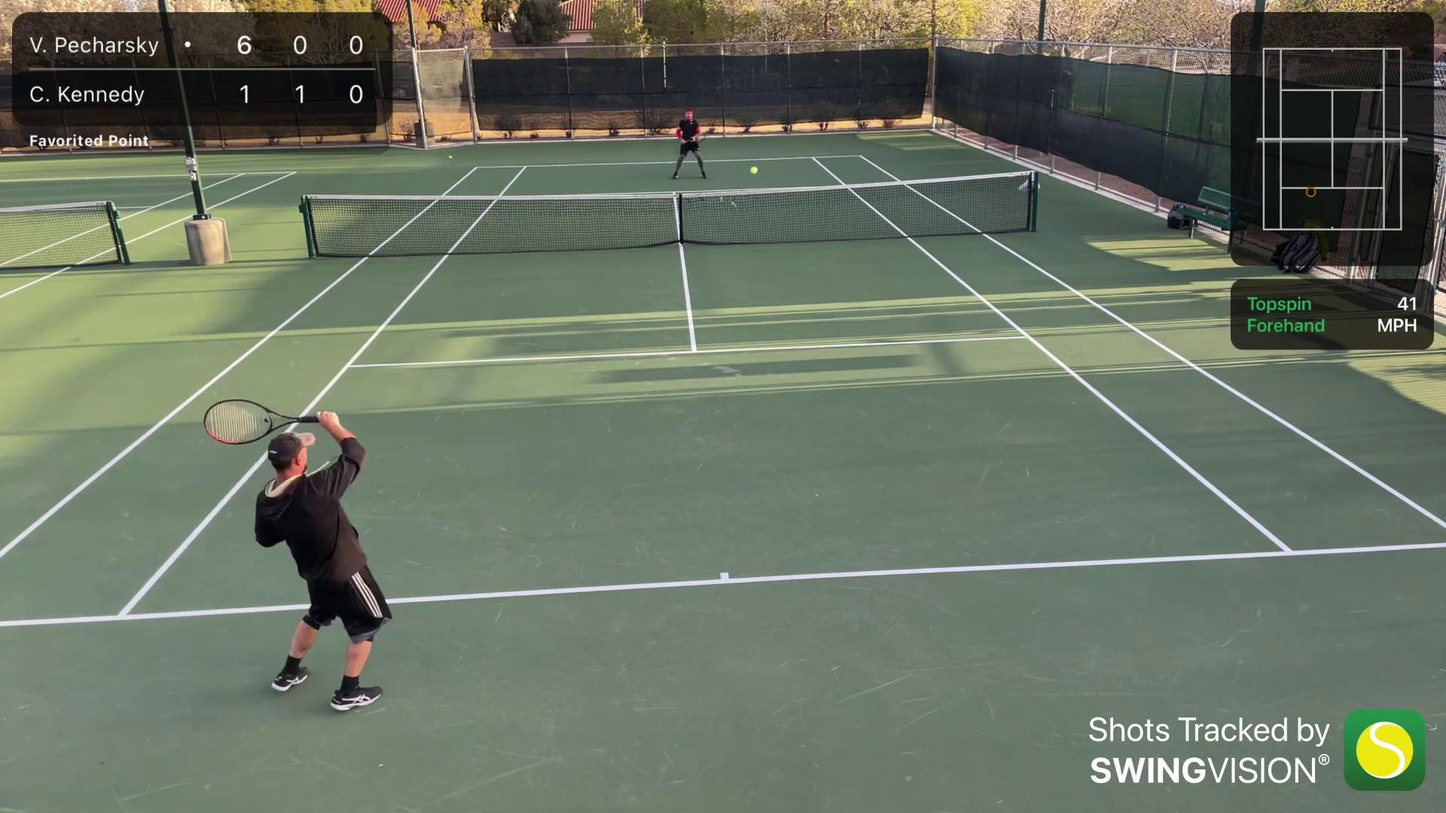ball: (749, 165, 759, 174), (447, 153, 453, 160)
